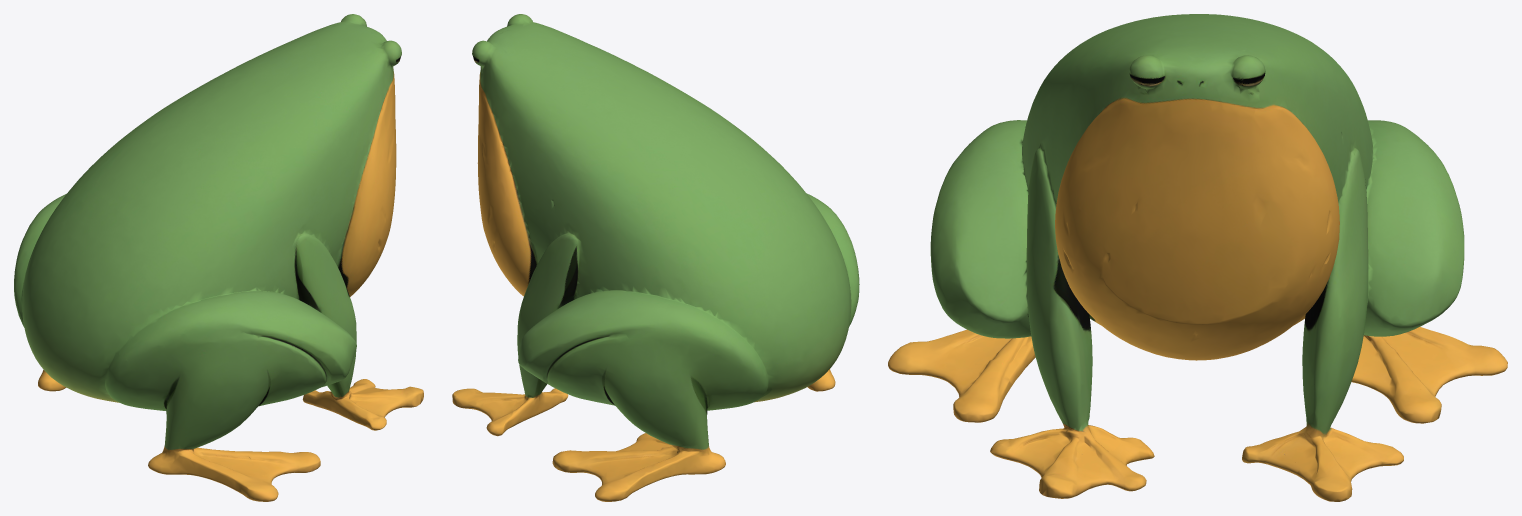
3 views of the same model, side by side, from view 1: azimuth 30°, elevation 25°; view 2: azimuth 150°, elevation 25°; view 3: azimuth 270°, elevation 25° (orthographic). The views are drawn at different scales.
Parts seen in each view (by area): view 1: tripo_node_6183568d-3cf2-4acc-807f-fd7784f5c672; view 2: tripo_node_6183568d-3cf2-4acc-807f-fd7784f5c672; view 3: tripo_node_6183568d-3cf2-4acc-807f-fd7784f5c672.
Part boxes in pixels (box(x1,y1,x2,y2)): tripo_node_6183568d-3cf2-4acc-807f-fd7784f5c672: box(14, 14, 423, 501); tripo_node_6183568d-3cf2-4acc-807f-fd7784f5c672: box(452, 14, 859, 501); tripo_node_6183568d-3cf2-4acc-807f-fd7784f5c672: box(888, 14, 1507, 501).
Bounding box in the file's own units: 0.8556 × 0.8186 × 1.
1 material, 1 textured.
